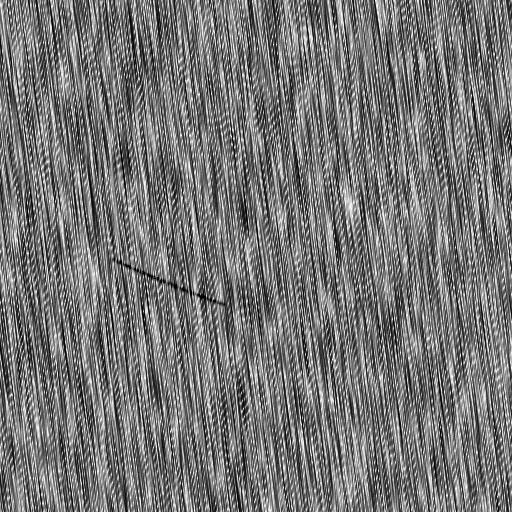DefectTypeC: (111, 254, 229, 310)
